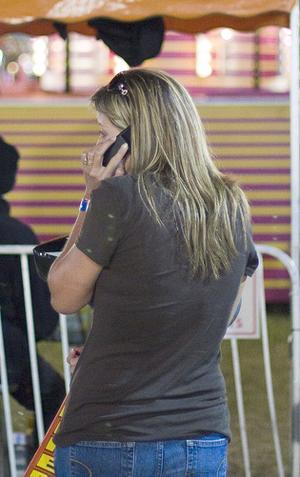person: (50, 68, 259, 477)
